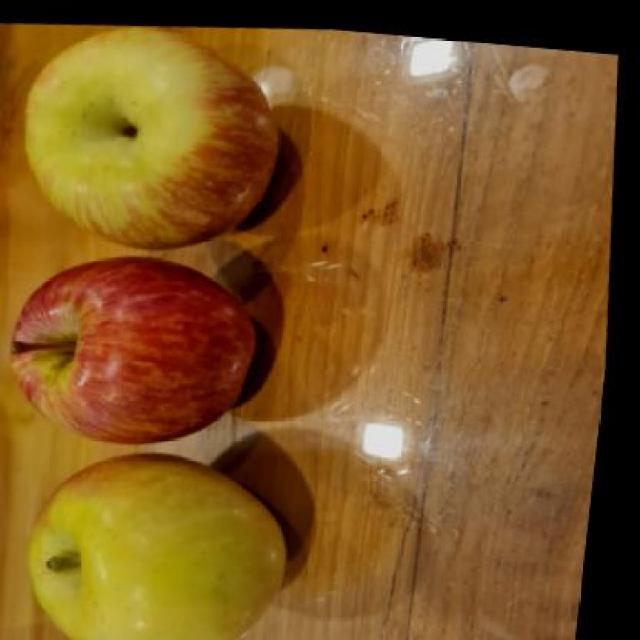Fresh Apple: (30, 44, 266, 250), (7, 260, 267, 443), (26, 461, 289, 640)
